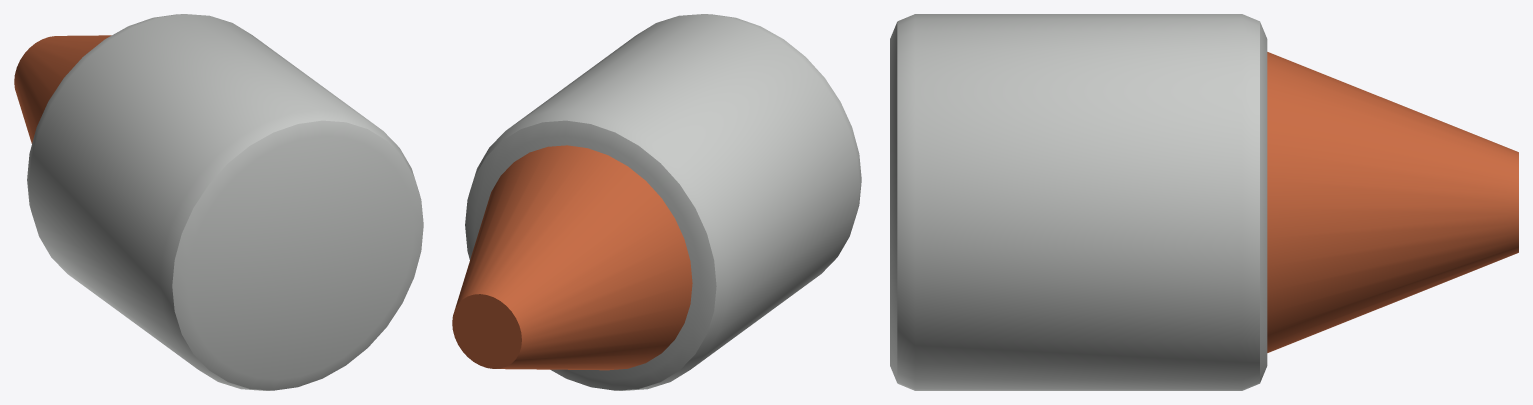
Rendered from riveting_machine_peen_spindle.glb.
3 views of the same model, side by side, from view 1: azimuth 30°, elevation 25°; view 2: azimuth 150°, elevation 25°; view 3: azimuth 270°, elevation 25° (orthographic). The views are drawn at different scales.
Parts seen in each view (by area): view 1: riveting_machine_peen_spindle; view 2: riveting_machine_peen_spindle; view 3: riveting_machine_peen_spindle.
Part boxes in pixels (x1,y1,x2,y2): riveting_machine_peen_spindle: (14,14,423,390); riveting_machine_peen_spindle: (452,14,861,390); riveting_machine_peen_spindle: (890,14,1518,390).
Bounding box in the file's own units: 0.03 × 0.03 × 0.05.
